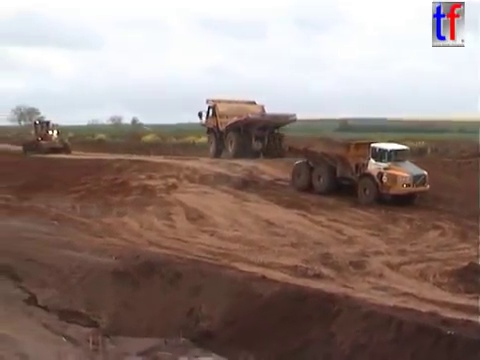motor grader: (20, 117, 74, 156)
truck: (290, 135, 432, 208), (196, 97, 300, 160)
